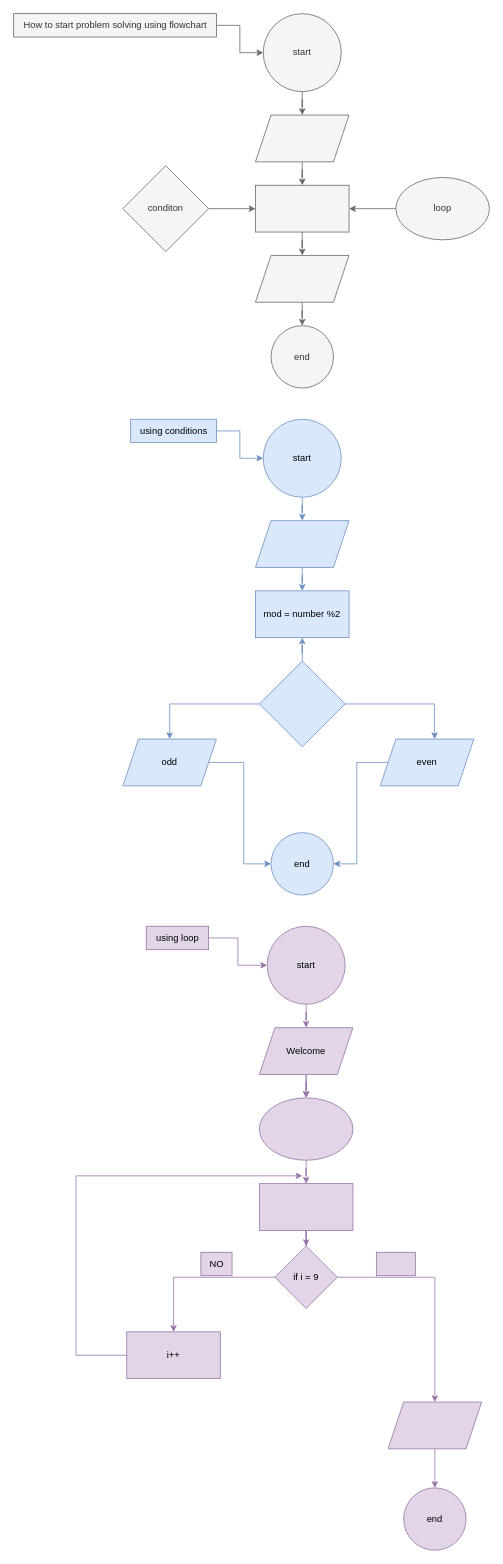
This 503x1564 diagram has some shape labels left out. Here are the shapes that lost their labels. From the top down, the box of each, then its label:
(255, 114, 349, 162): input
(255, 184, 349, 232): proccing
(255, 255, 349, 302): output
(255, 520, 349, 567): Welcome/ Numbers
(259, 660, 345, 747): if mod 2
(259, 1097, 353, 1160): i = 0
(259, 1183, 353, 1230): result = result + i
(376, 1252, 415, 1276): YES
(387, 1401, 482, 1449): print result
